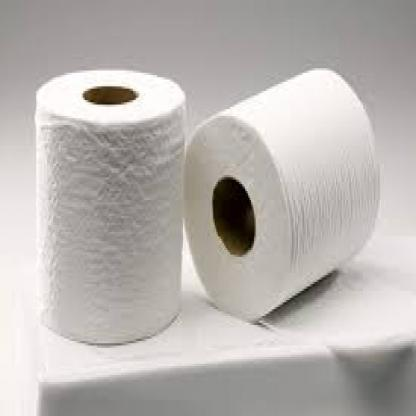tissue: (190, 64, 380, 325), (33, 67, 184, 343)
